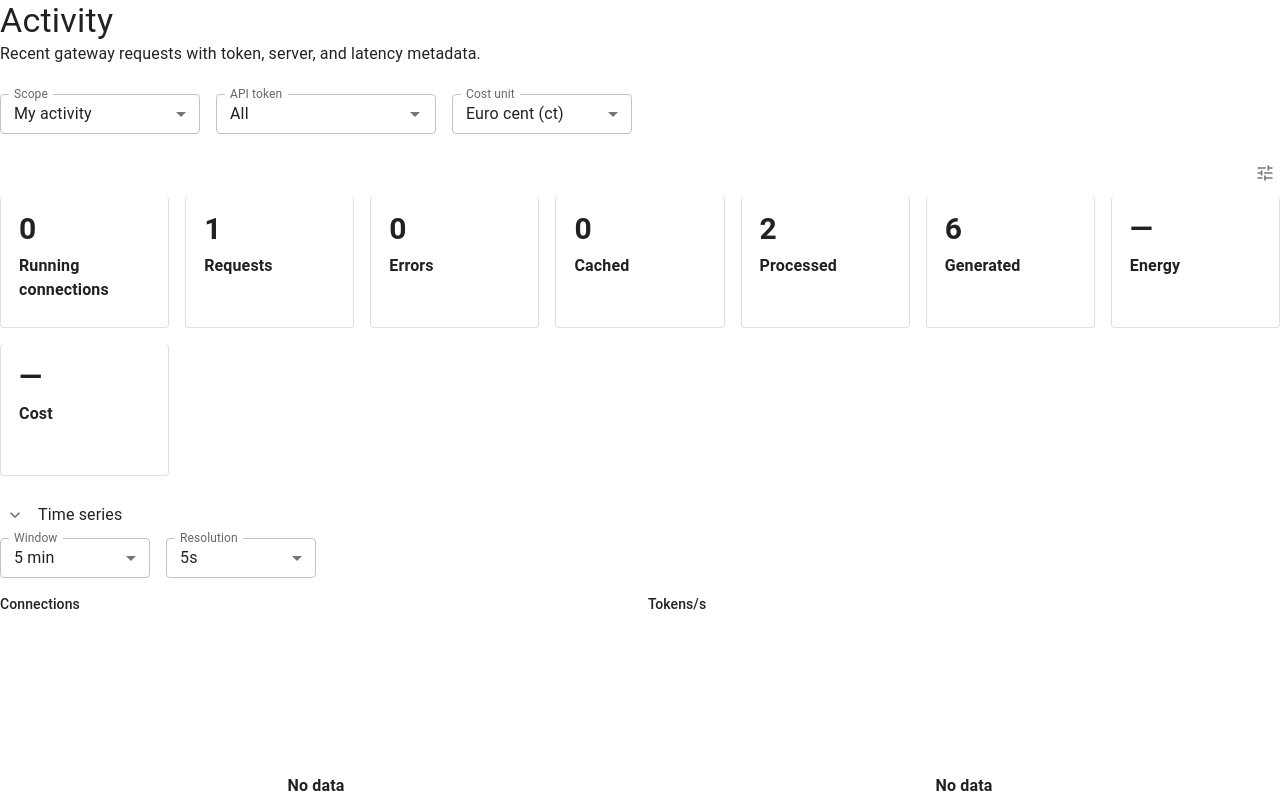
Test: reveals the owner column for a system-admin who switches to all-scope
Check: the column heading "User" is not shown
Press the mouse on the dropdown named "Scope" at (53, 114), box [14, 104, 92, 124]
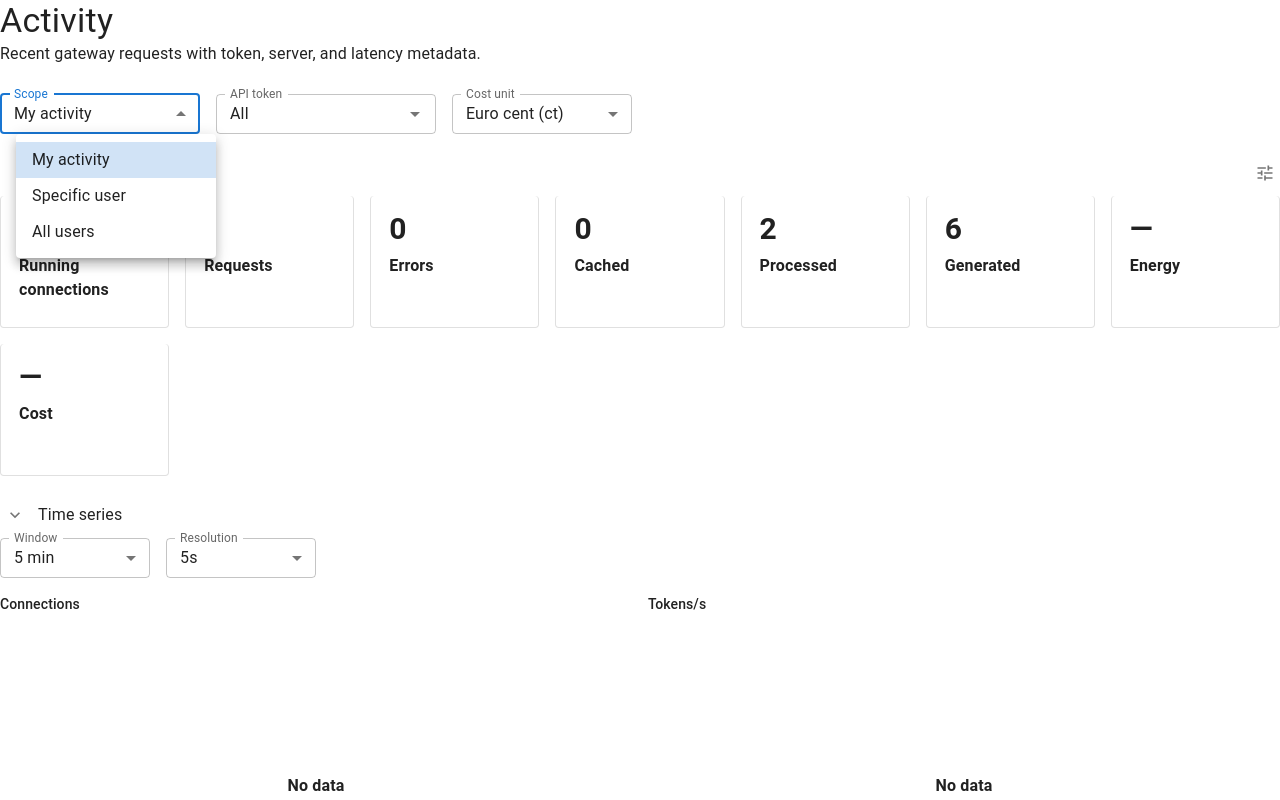
Click the option "All users" at (63, 232), box [32, 222, 95, 241]
(page scrolled)
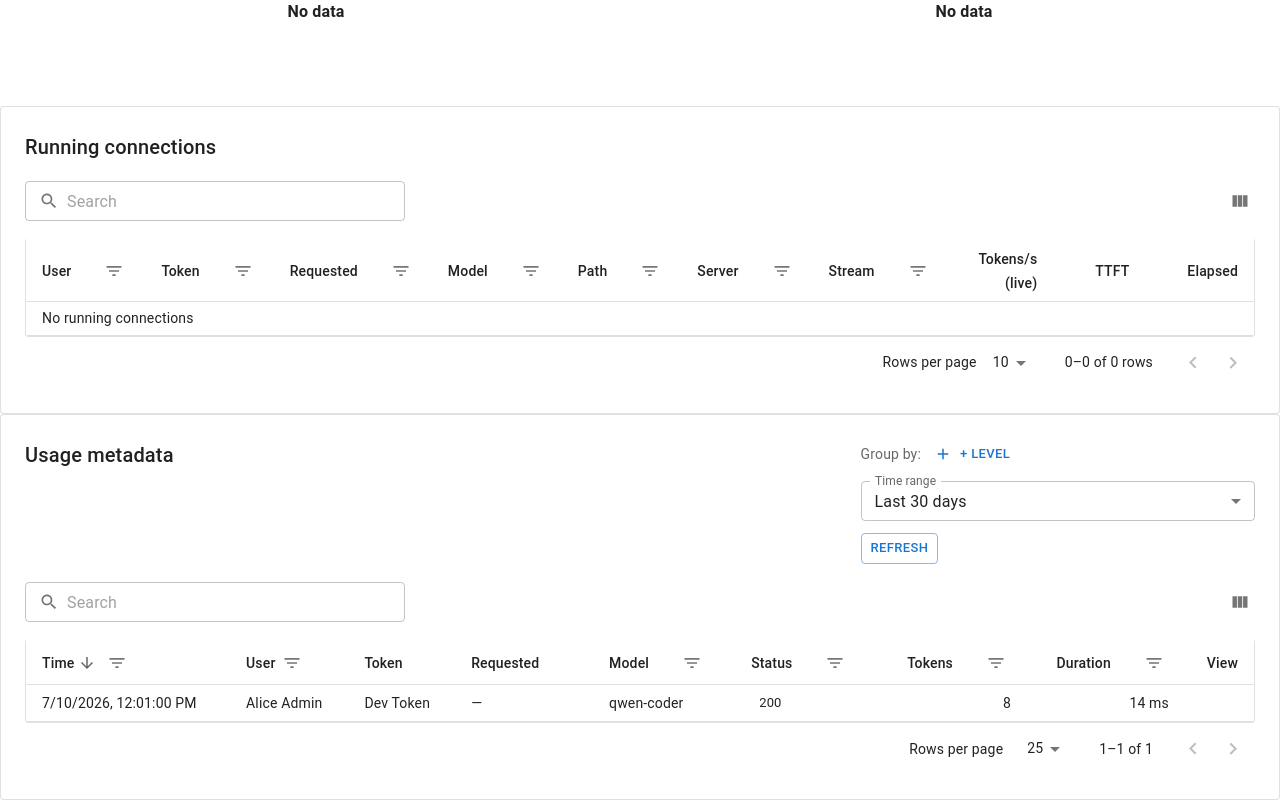
Check: the column heading "User" in the row of "View" is shown, box [230, 642, 348, 684]
Check: the cell "Alice Admin" is shown, box [230, 684, 348, 722]
